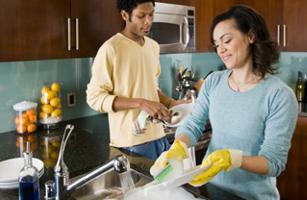person: (154, 3, 301, 199)
